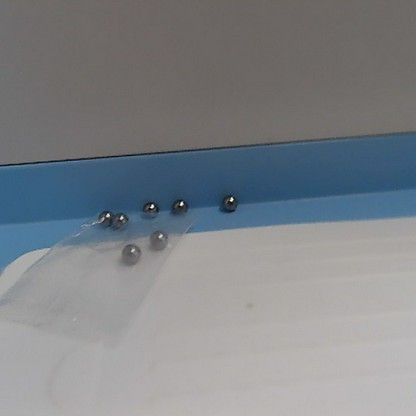ironball: (138, 199, 162, 220), (121, 242, 142, 262), (215, 192, 238, 210), (148, 227, 167, 248), (95, 208, 116, 227), (169, 194, 187, 215), (110, 210, 127, 231)
